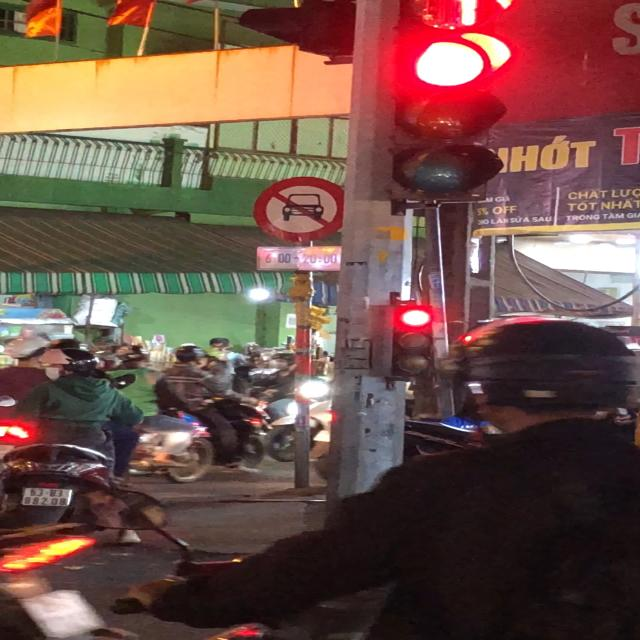Bien bao cam xe oto: (255, 176, 351, 245)
